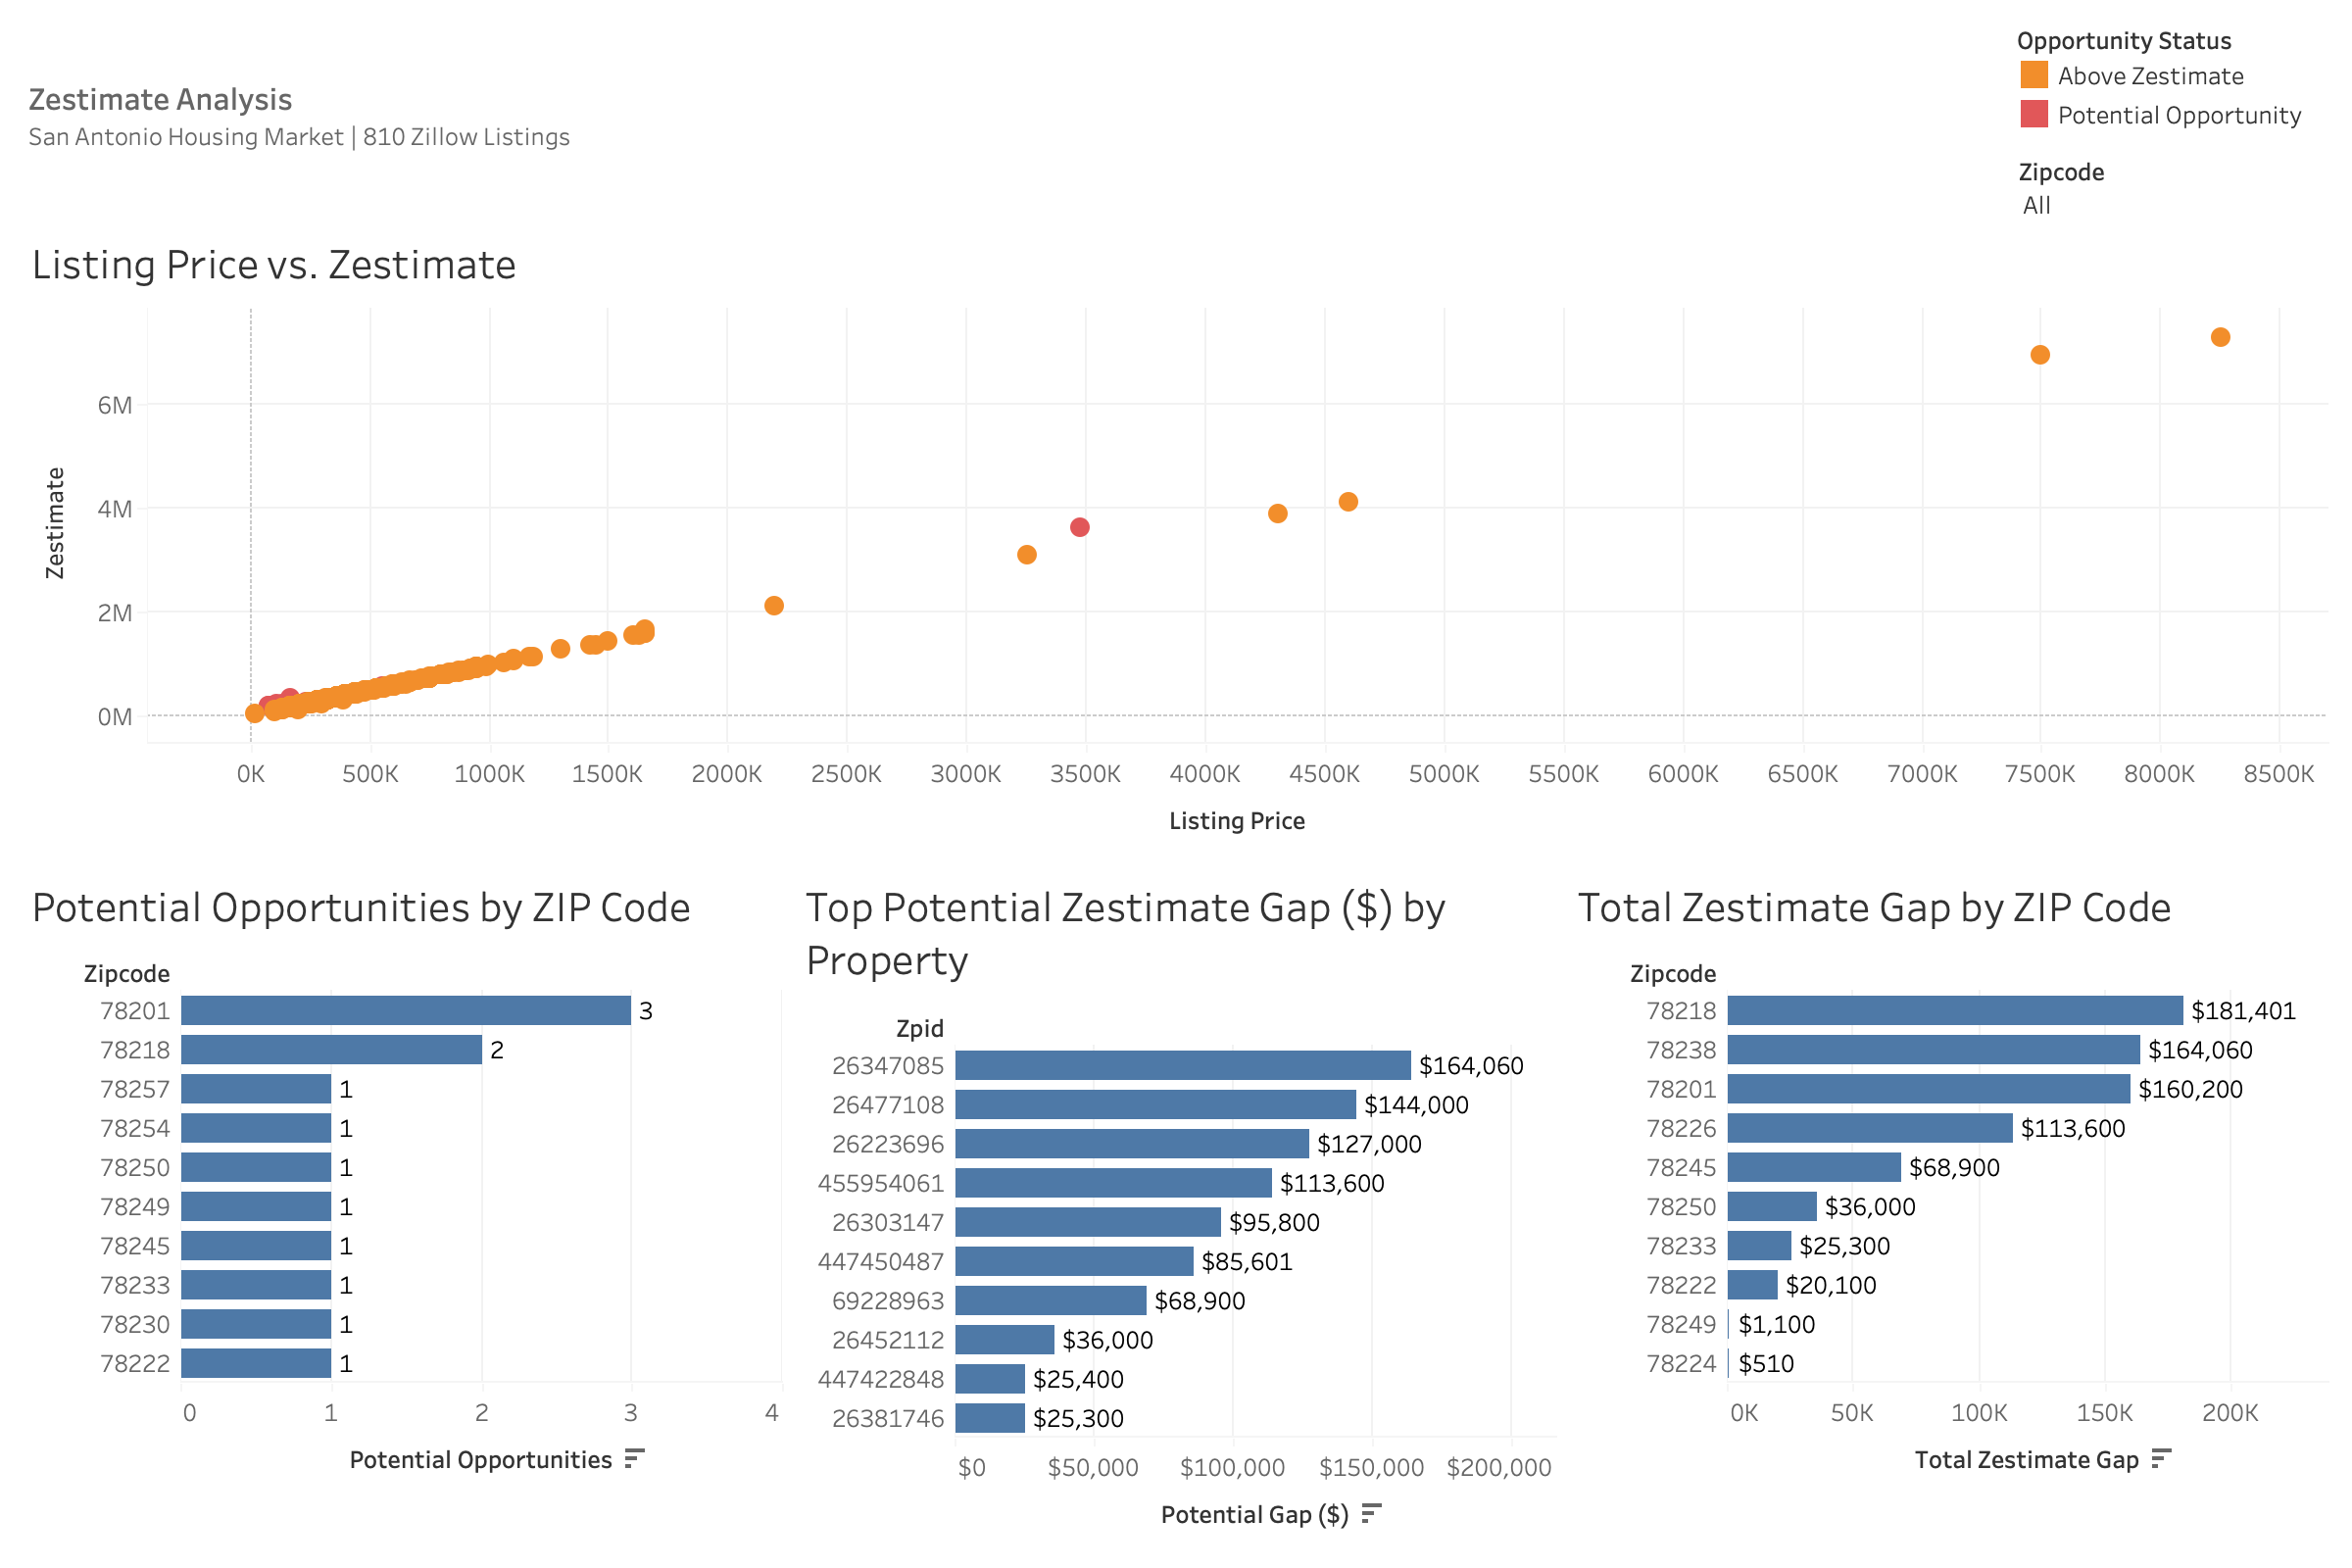

The dashboard page shown, as its layout file describes it:
{"tool":"tableau","page":{"name":"Dashboard 2- Zestimate Analysis","canvas":[1200,800],"ordinal":1},"visuals":[{"type":"text","box":[8,8,1184,102.4]},{"type":"legend","title":"Listing Price vs. Zestimate","param":"[federated.1wcei441pjk01j16judub0aemmar].[none:opportunity_status:nk]","box":[1028,10,152,58]},{"type":"filter","title":"Listing Price vs. Zestimate","param":"[federated.1wcei441pjk01j16judub0aemmar].[attr:zipcode:nk]","box":[1030,78,168,52]},{"type":"worksheet","title":"Listing Price vs. Zestimate","mark":"Circle","rows":["zestimate"],"cols":["price"],"box":[8,110.4,1184,327.6]},{"type":"worksheet","title":"Potential Opportunities by ZIP","mark":"Automatic","rows":["zipcode"],"cols":["zpid"],"box":[8,438,394.6,354]},{"type":"worksheet","title":"Zestimate Gap by Property","mark":"Automatic","rows":["zpid"],"cols":["zestimate_gap"],"box":[402.6,438,394.7,354]},{"type":"worksheet","title":"Potential Opportunity Value by ZIP","mark":"Automatic","rows":["zipcode"],"cols":["zestimate_gap"],"box":[797.3,438,394.7,354]}]}

Visuals, with their boxes in screenshot pixels (x1, y1, x2, y2), scaled from the page's 1200x800 canvas onto the 2352x1568 screenshot:
text: pyautogui.locateOnScreen(16, 16, 2336, 217)
"Listing Price vs. Zestimate" legend: pyautogui.locateOnScreen(2015, 20, 2313, 133)
"Listing Price vs. Zestimate" filter: pyautogui.locateOnScreen(2019, 153, 2348, 255)
"Listing Price vs. Zestimate" worksheet (Circle marks): pyautogui.locateOnScreen(16, 217, 2336, 858)
"Potential Opportunities by ZIP" worksheet: pyautogui.locateOnScreen(16, 858, 789, 1552)
"Zestimate Gap by Property" worksheet: pyautogui.locateOnScreen(789, 858, 1563, 1552)
"Potential Opportunity Value by ZIP" worksheet: pyautogui.locateOnScreen(1563, 858, 2336, 1552)
